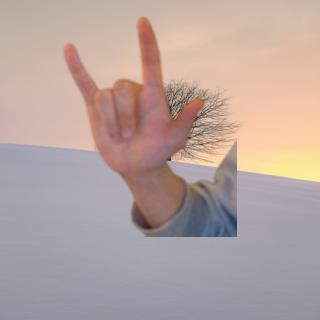ILY: (58, 11, 209, 176)
